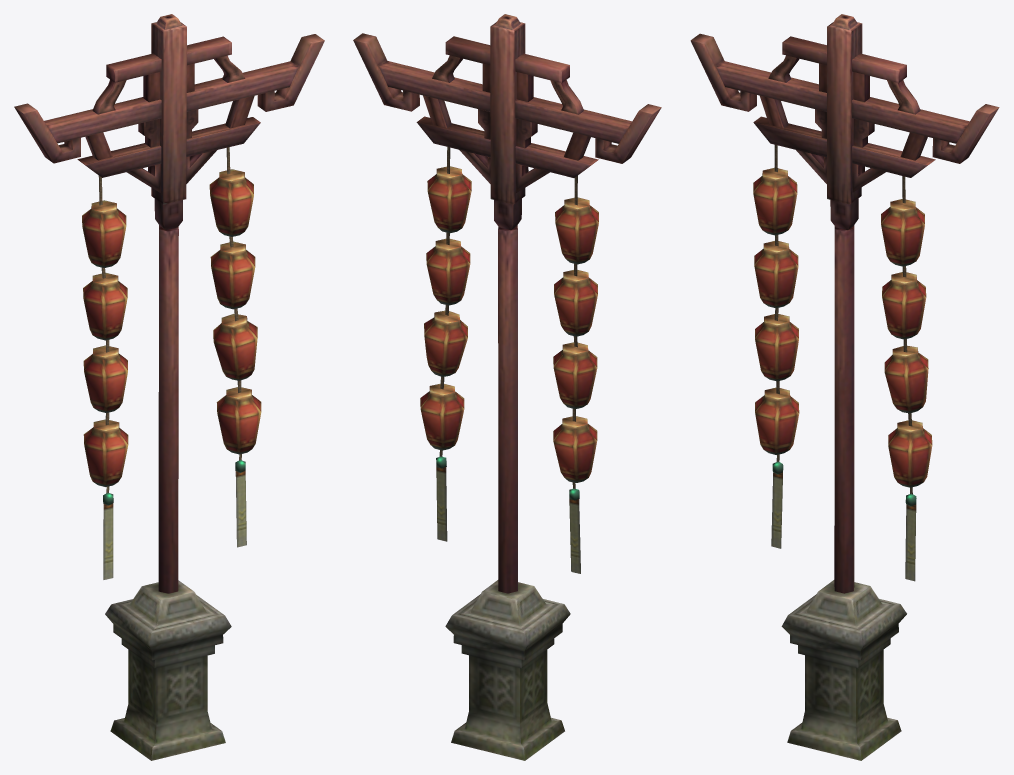
Rendered from Youshuizhou_zhiwu_038.FBX.
3 views of the same model, side by side, from view 1: azimuth 30°, elevation 25°; view 2: azimuth 150°, elevation 25°; view 3: azimuth 330°, elevation 25° (orthographic).
Parts seen in each view (by area): view 1: DrawCall_03772; view 2: DrawCall_03772; view 3: DrawCall_03772.
Part boxes in pixels (x1,y1,x2,y2): DrawCall_03772: (14,14,324,760); DrawCall_03772: (353,14,661,760); DrawCall_03772: (690,14,999,760).
Bounding box in the file's own units: 87.41 × 200 × 22.53.
Materials: 1 (1 with a texture image).
